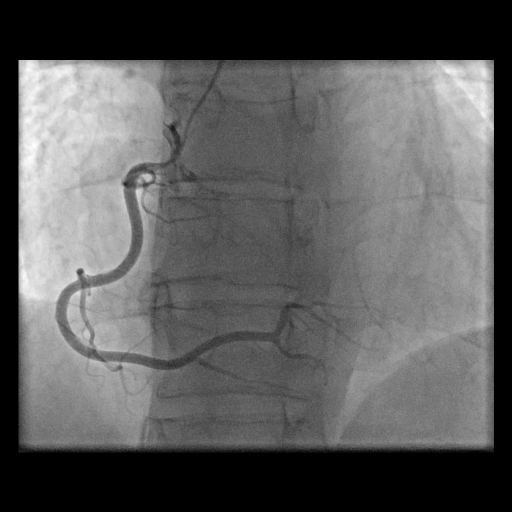RCA: (56, 119, 324, 382)
catherter: (180, 61, 222, 151)
